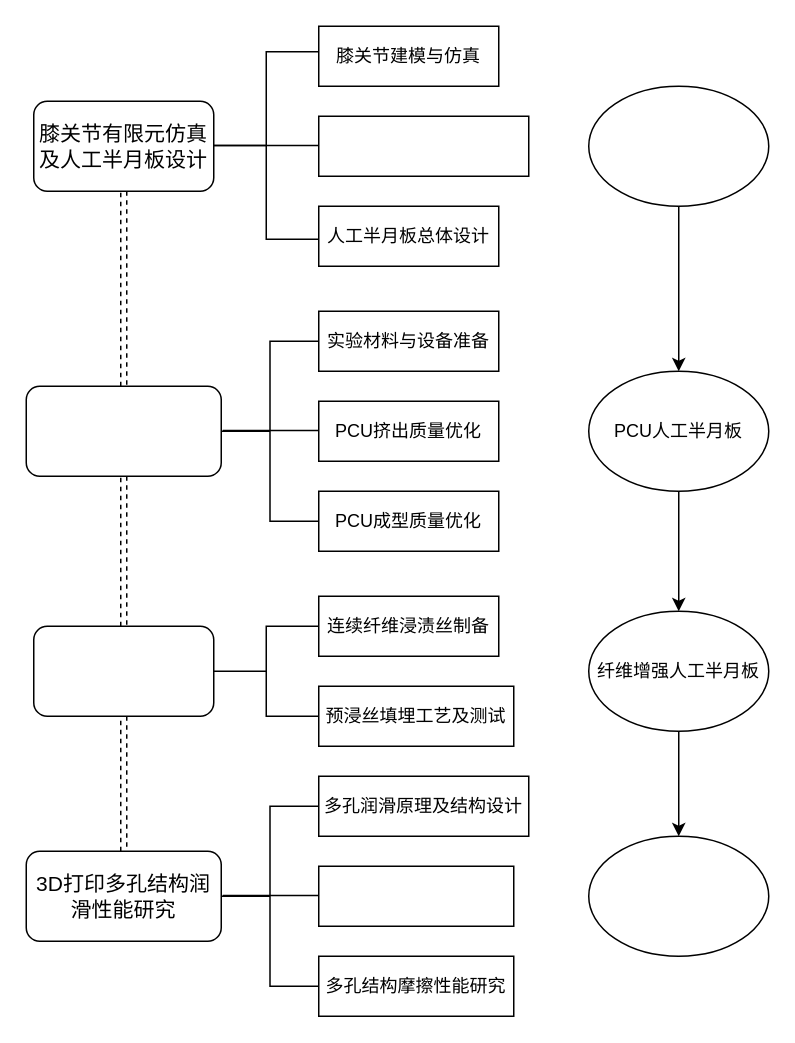
Image size: 795x1043. Some labels were removed from this diagram. The shapes that lost their labels are listed below. From the top down, each one's centre as x and y in pixels, then its label:
(423,145): 人工半月板性能要求总结
(678,145): 理论分析
(123,430): 聚碳酸型聚氨酯的打印成型与性能测试
(123,670): 预浸渍连续纤维填埋打印工艺
(415,895): 多孔结构浸润性能研究
(678,895): 多孔润滑人工半月板
